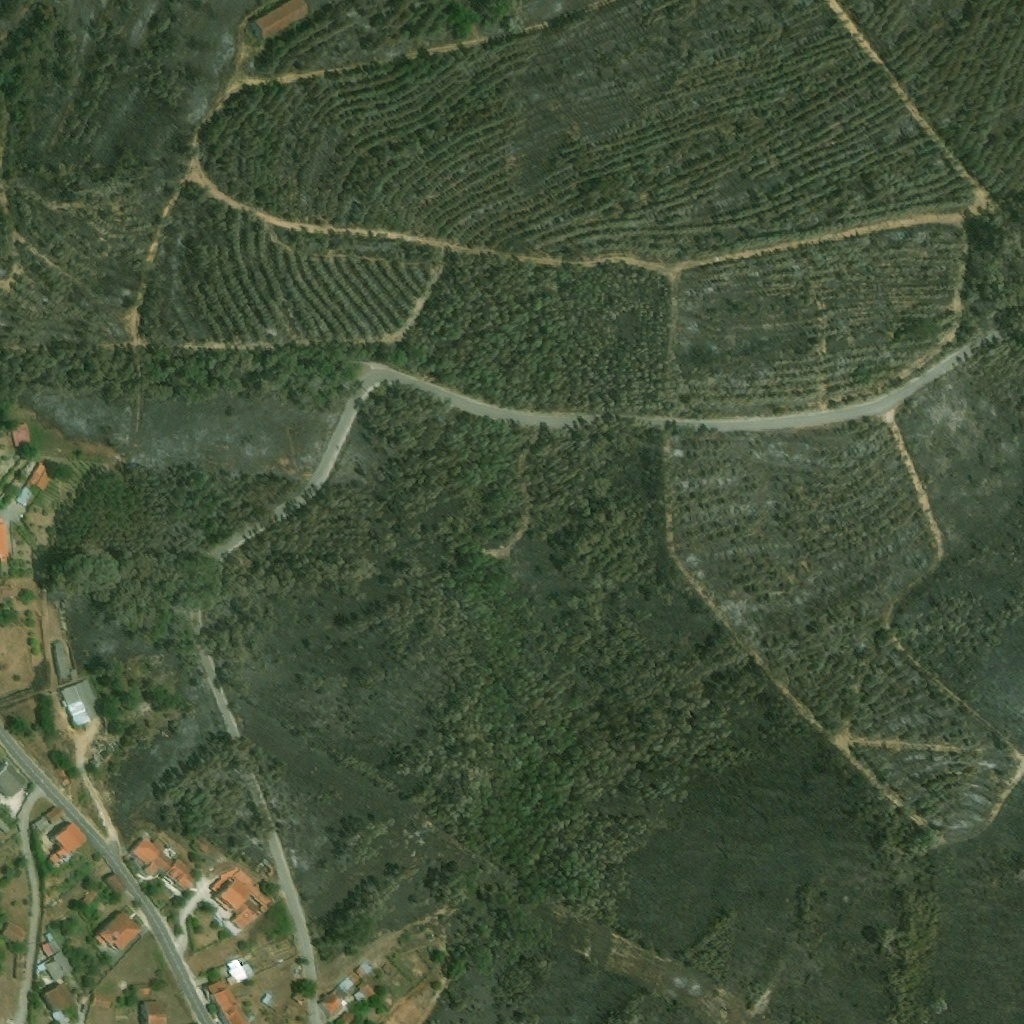0 no-damage: (209, 866, 278, 931), (131, 836, 201, 892), (201, 956, 258, 1023), (319, 958, 379, 1019), (248, 0, 312, 43), (35, 930, 77, 988), (15, 457, 60, 509), (61, 677, 106, 727), (46, 821, 91, 870), (94, 908, 144, 951), (38, 981, 80, 1023), (52, 638, 79, 686), (0, 761, 30, 799), (34, 804, 67, 831), (355, 981, 383, 1008), (3, 921, 29, 946), (141, 1001, 170, 1023), (11, 423, 35, 448), (106, 871, 130, 896), (78, 888, 102, 910), (261, 990, 284, 1012), (14, 950, 29, 980), (91, 991, 114, 1009), (336, 1008, 362, 1023), (0, 523, 8, 560), (292, 988, 308, 1004), (0, 585, 14, 603), (199, 839, 214, 853), (133, 985, 152, 996), (0, 816, 12, 833), (154, 838, 167, 851)
